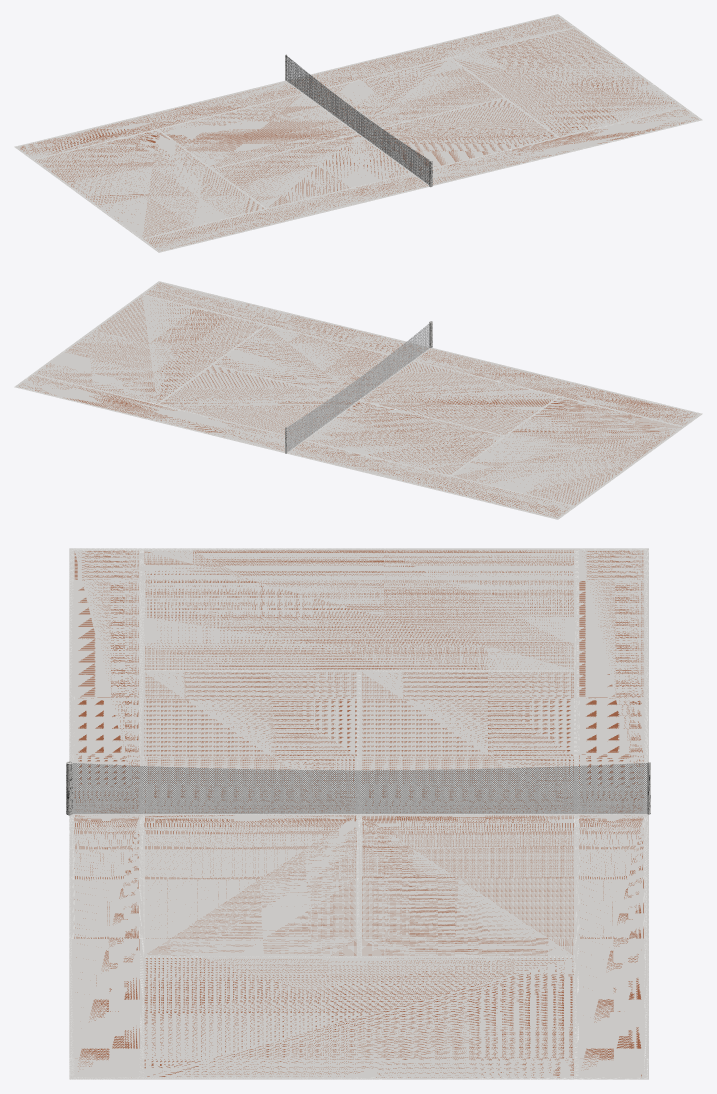
The model's file is Cancha-de-Tenis.dae.
3 renders of one model, top to bottom at view 1: azimuth 30°, elevation 25°; view 2: azimuth 150°, elevation 25°; view 3: azimuth 270°, elevation 25°, orthographic. The views are drawn at different scales.
Parts seen in each view (by area): view 1: SketchUp (×12); view 2: SketchUp (×12); view 3: SketchUp (×12).
Part boxes in pixels (x1,y1,x2,y2): SketchUp (×12): [14, 14, 702, 252]; SketchUp (×12): [14, 281, 702, 519]; SketchUp (×12): [69, 548, 648, 1079].
Bounding box in the file's own units: 936 × 435 × 42.13.
5 materials, 2 textured.
